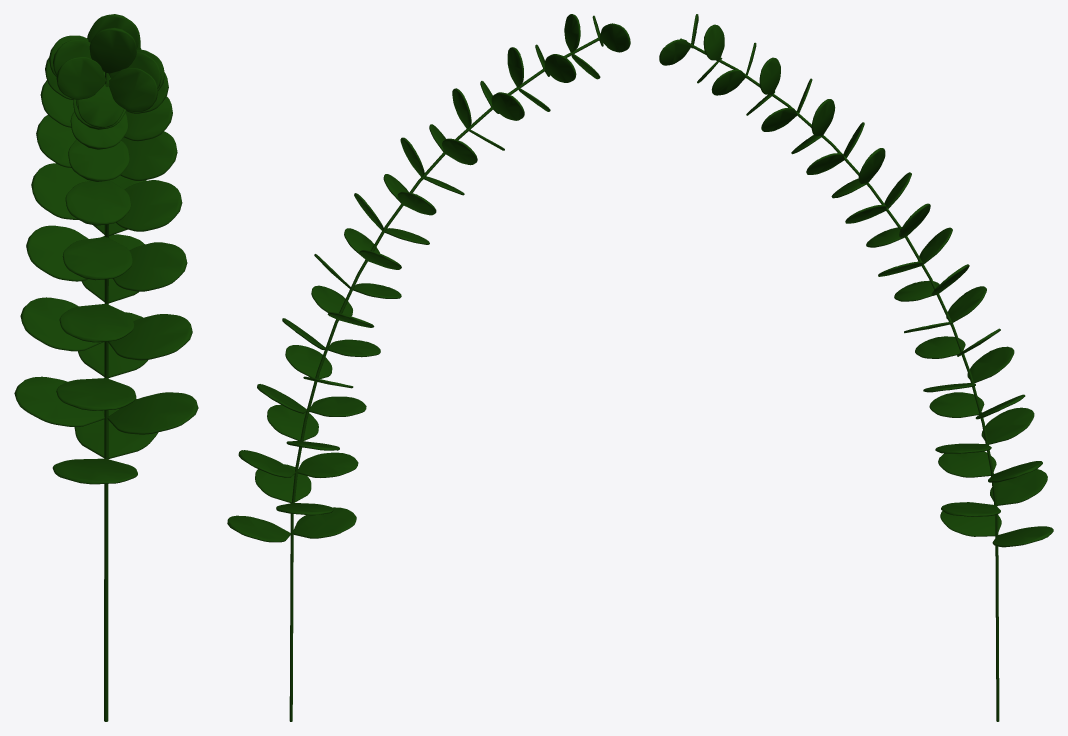
The model's file is Plant_4.fbx.
3 renders of one model, left to right at view 1: azimuth 30°, elevation 25°; view 2: azimuth 150°, elevation 25°; view 3: azimuth 270°, elevation 25°, orthographic. The views are drawn at different scales.
Parts seen in each view (by area): view 1: Plant_4; view 2: Plant_4; view 3: Plant_4.
Part boxes in pixels (box(x1,y1,x2,y2)): Plant_4: box(14, 14, 198, 721); Plant_4: box(227, 14, 630, 721); Plant_4: box(659, 14, 1053, 721).
Bounding box in the file's own units: 17.87 × 46.21 × 26.3.
